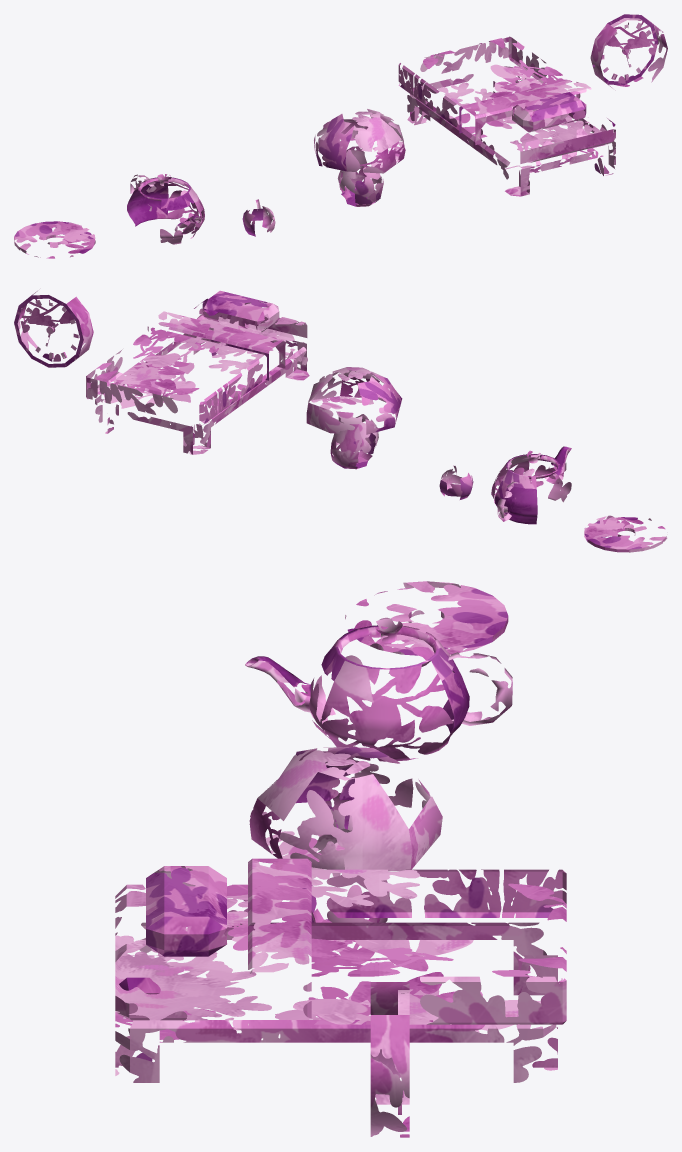
The model's file is extra environment objects.fbx.
The picture shows the model from 3 angles, top to bottom: view 1: azimuth 30°, elevation 25°; view 2: azimuth 150°, elevation 25°; view 3: azimuth 270°, elevation 25°; orthographic projection. The views are drawn at different scales.
Parts seen in each view (by area): view 1: G5_bed, G5_mushroom, G5_teapot, G5_clock, G5_disc, G5_apple; view 2: G5_bed, G5_mushroom, G5_teapot, G5_clock, G5_disc, G5_apple; view 3: G5_bed, G5_mushroom, G5_teapot, G5_disc, G5_clock.
Boxes of the visible parts, <box> form: G5_bed: <box>398,36,615,196</box>; G5_mushroom: <box>314,109,405,206</box>; G5_teapot: <box>127,174,204,244</box>; G5_clock: <box>590,14,667,90</box>; G5_disc: <box>14,221,95,258</box>; G5_apple: <box>242,199,275,236</box>; G5_bed: <box>86,290,309,454</box>; G5_mushroom: <box>306,367,402,469</box>; G5_teapot: <box>491,446,571,524</box>; G5_clock: <box>14,291,93,367</box>; G5_disc: <box>584,515,667,552</box>; G5_apple: <box>439,465,473,499</box>; G5_bed: <box>115,858,566,1082</box>; G5_mushroom: <box>249,747,442,922</box>; G5_teapot: <box>245,617,512,761</box>; G5_disc: <box>345,581,508,655</box>; G5_clock: <box>370,982,409,1137</box>.
Size of the model in its own units: 116 by 20.13 by 35.79.
1 material, 1 textured.
